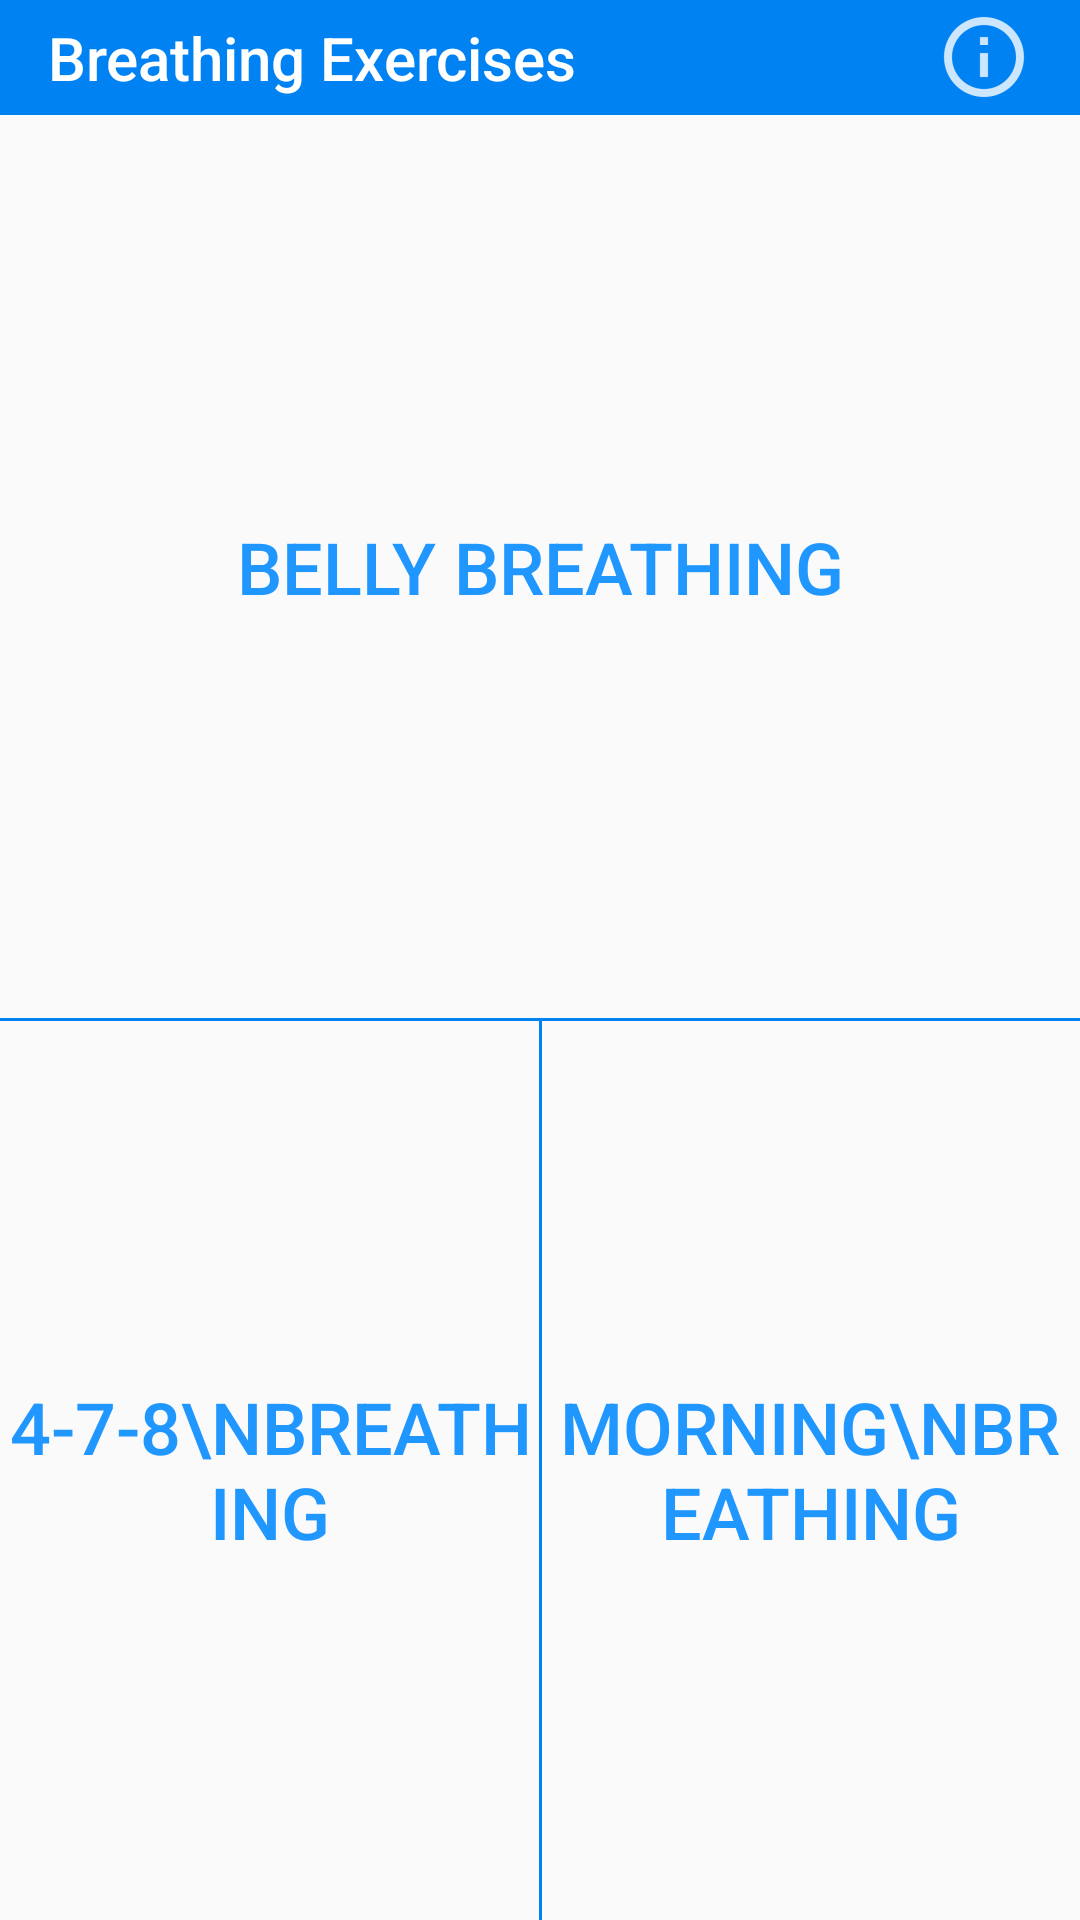

Icon bounding boxes for this 1080w x 1920h phone screenshot, format (x1, y1, x2, y2):
information: (944, 17, 1024, 97)
